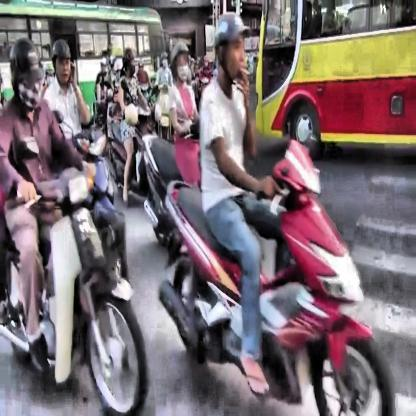wear: (214, 11, 250, 84), (9, 36, 44, 107), (51, 38, 74, 84), (170, 40, 190, 86), (122, 45, 137, 74)
